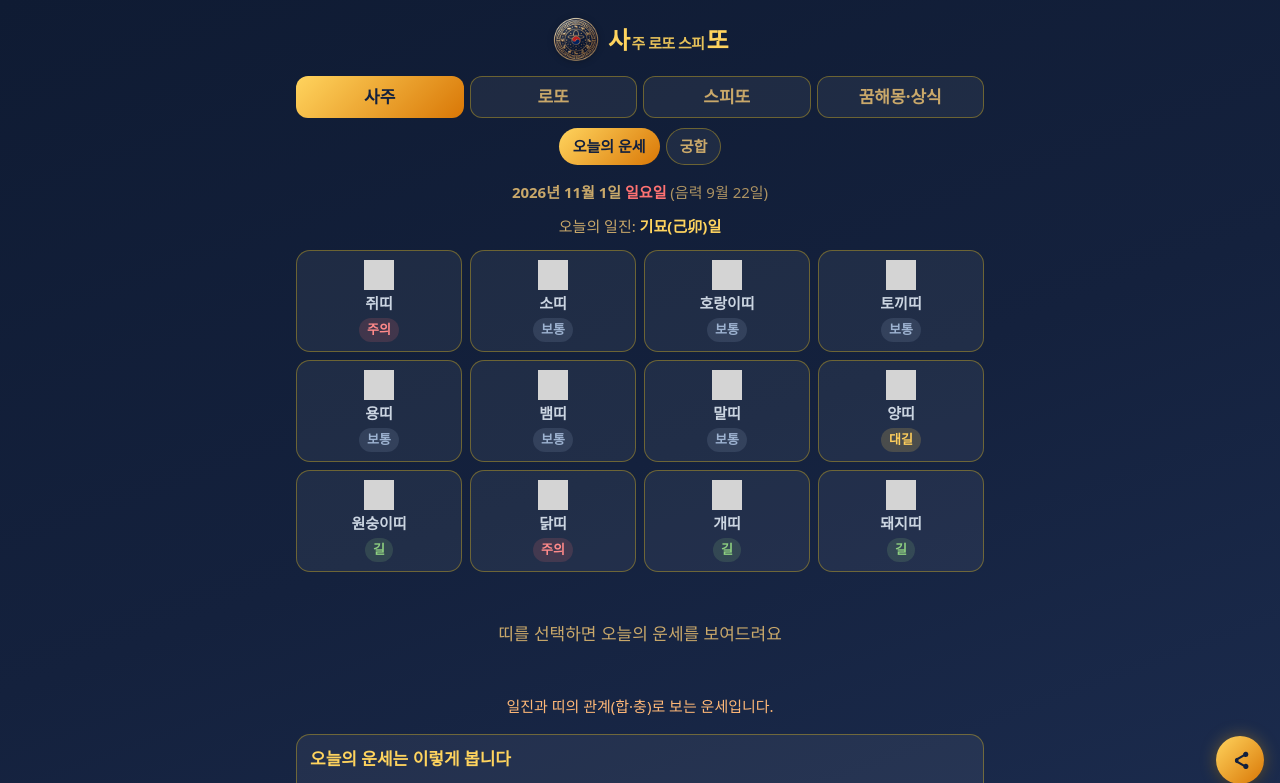
Test: 궁합 하위 탭 클릭 시 궁합 입력 화면 표시
Click the link "궁합": point(693, 146) [666,128,721,165]
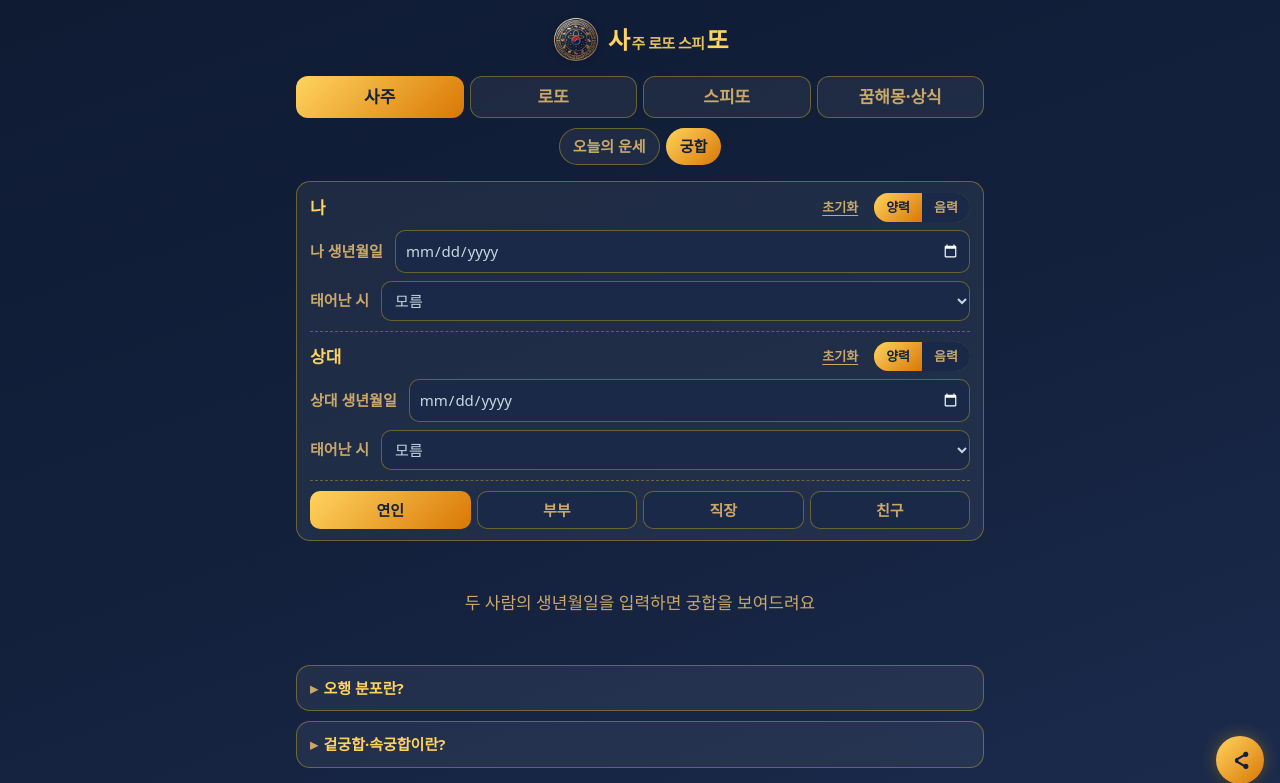
Now the text "두 사람의 생년월일을 입력하면 궁합을 보여드려요" is shown, box [465,591,815,614]
